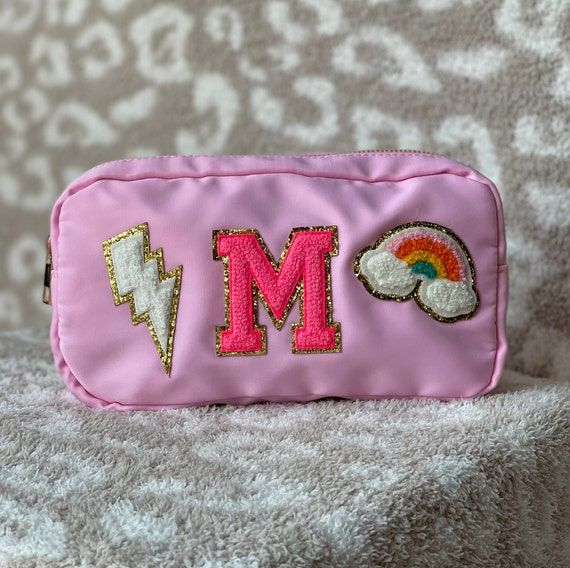nylon: (44, 149, 508, 401)
